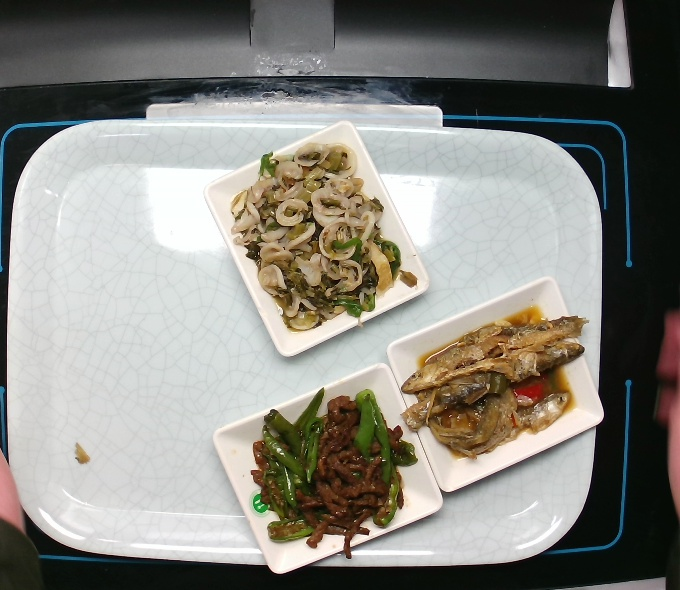wcq-QingJiaoNiuRou: (246, 389, 417, 561)
wcq-XiaoXiYu: (389, 303, 588, 452)
wcq-XueCaiYouYu: (219, 141, 420, 330)
